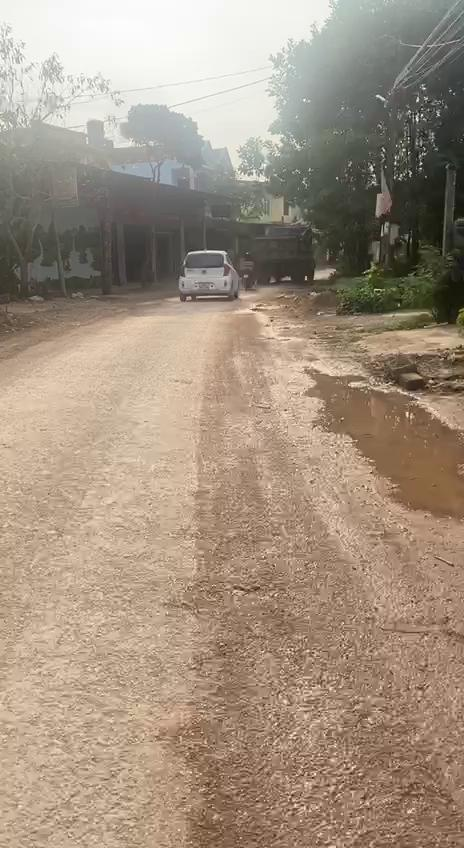pothole: (303, 365, 464, 528)
